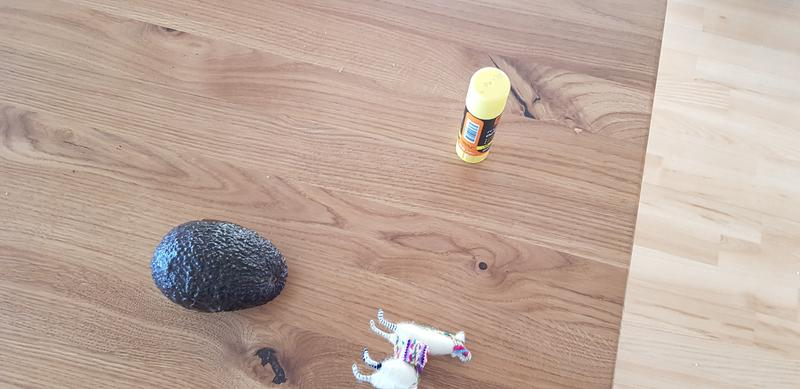Avocado: (144, 213, 298, 310)
Glue-Stick: (445, 62, 514, 174)
Horse-Toy: (344, 307, 478, 389)
